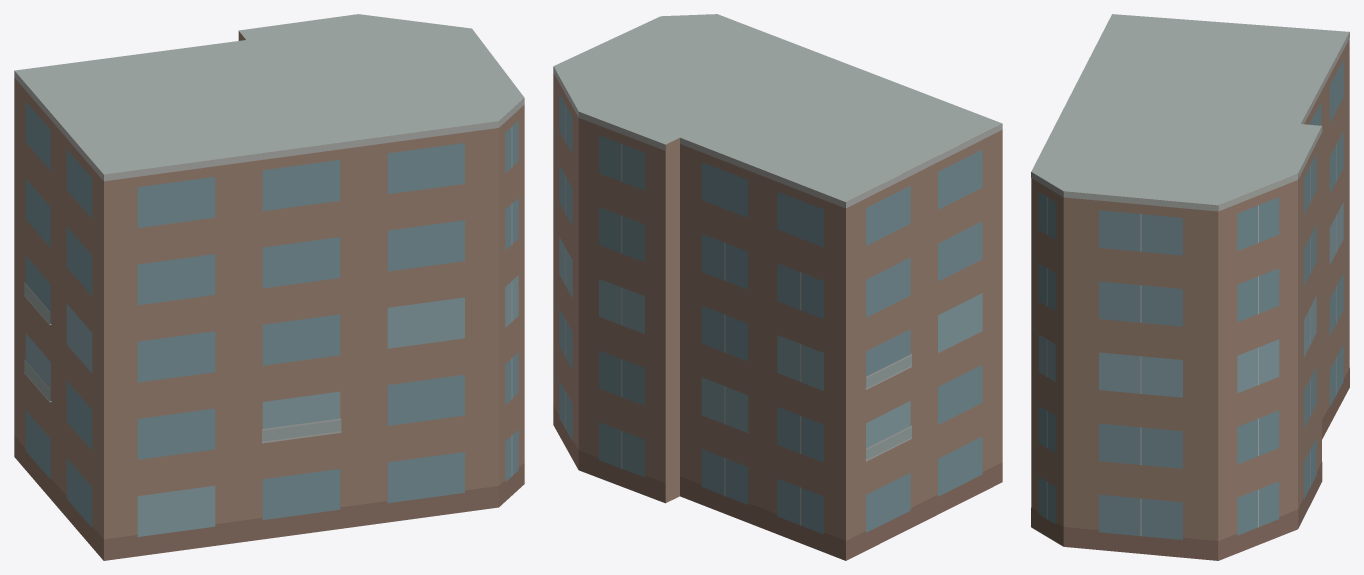
The model's file is survey-upis-32978868.glb.
3 views of the same model, side by side, from view 1: azimuth 30°, elevation 25°; view 2: azimuth 150°, elevation 25°; view 3: azimuth 270°, elevation 25° (orthographic). The views are drawn at different scales.
Parts seen in each view (by area): view 1: survey-upis-32978868.tmp; view 2: survey-upis-32978868.tmp; view 3: survey-upis-32978868.tmp.
Part boxes in pixels (left/top/right/bottom): survey-upis-32978868.tmp: left=14, top=14, right=524, bottom=560; survey-upis-32978868.tmp: left=553, top=14, right=1002, bottom=560; survey-upis-32978868.tmp: left=1031, top=14, right=1349, bottom=560.
Bounding box in the file's own units: 16.23 × 14.05 × 11.42.
